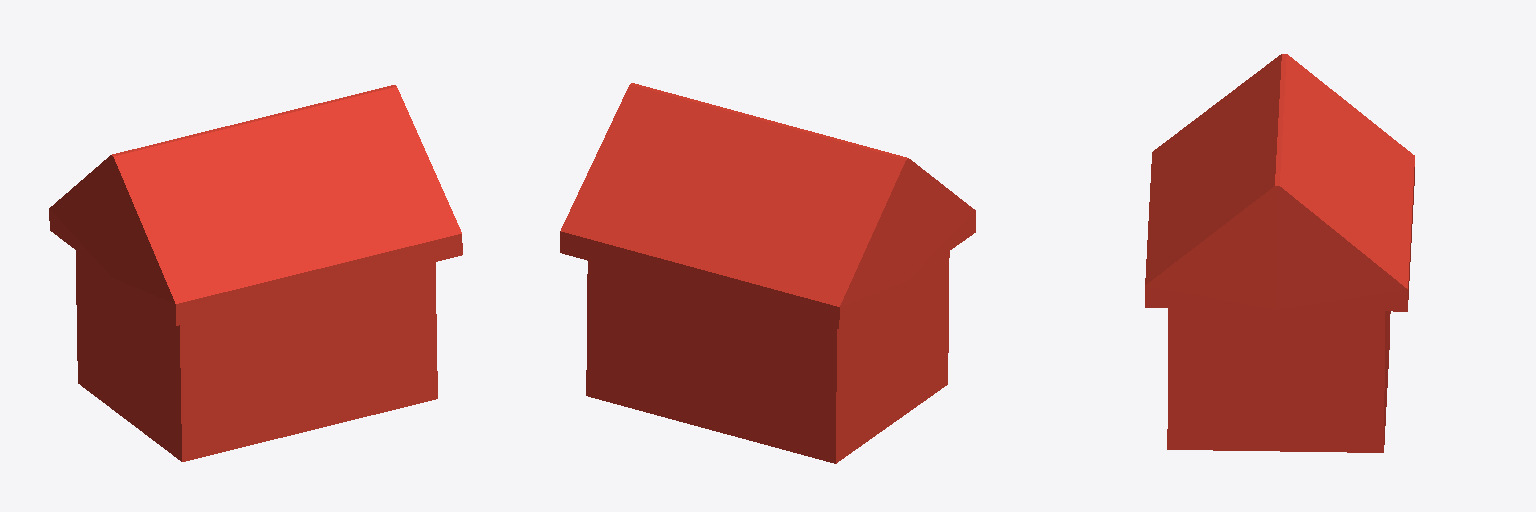
The picture shows the model from 3 angles: view 1: azimuth 30°, elevation 25°; view 2: azimuth 150°, elevation 25°; view 3: azimuth 270°, elevation 25°; orthographic projection.
Parts seen in each view (by area): view 1: Cube; view 2: Cube; view 3: Cube.
Boxes of the visible parts, x1,y1,x2,y2 form: Cube: [49, 85, 462, 461]; Cube: [560, 83, 975, 463]; Cube: [1145, 54, 1414, 452].
Size of the model in its own units: 0.175 by 0.1597 by 0.1421.
1 materials, 1 textured.